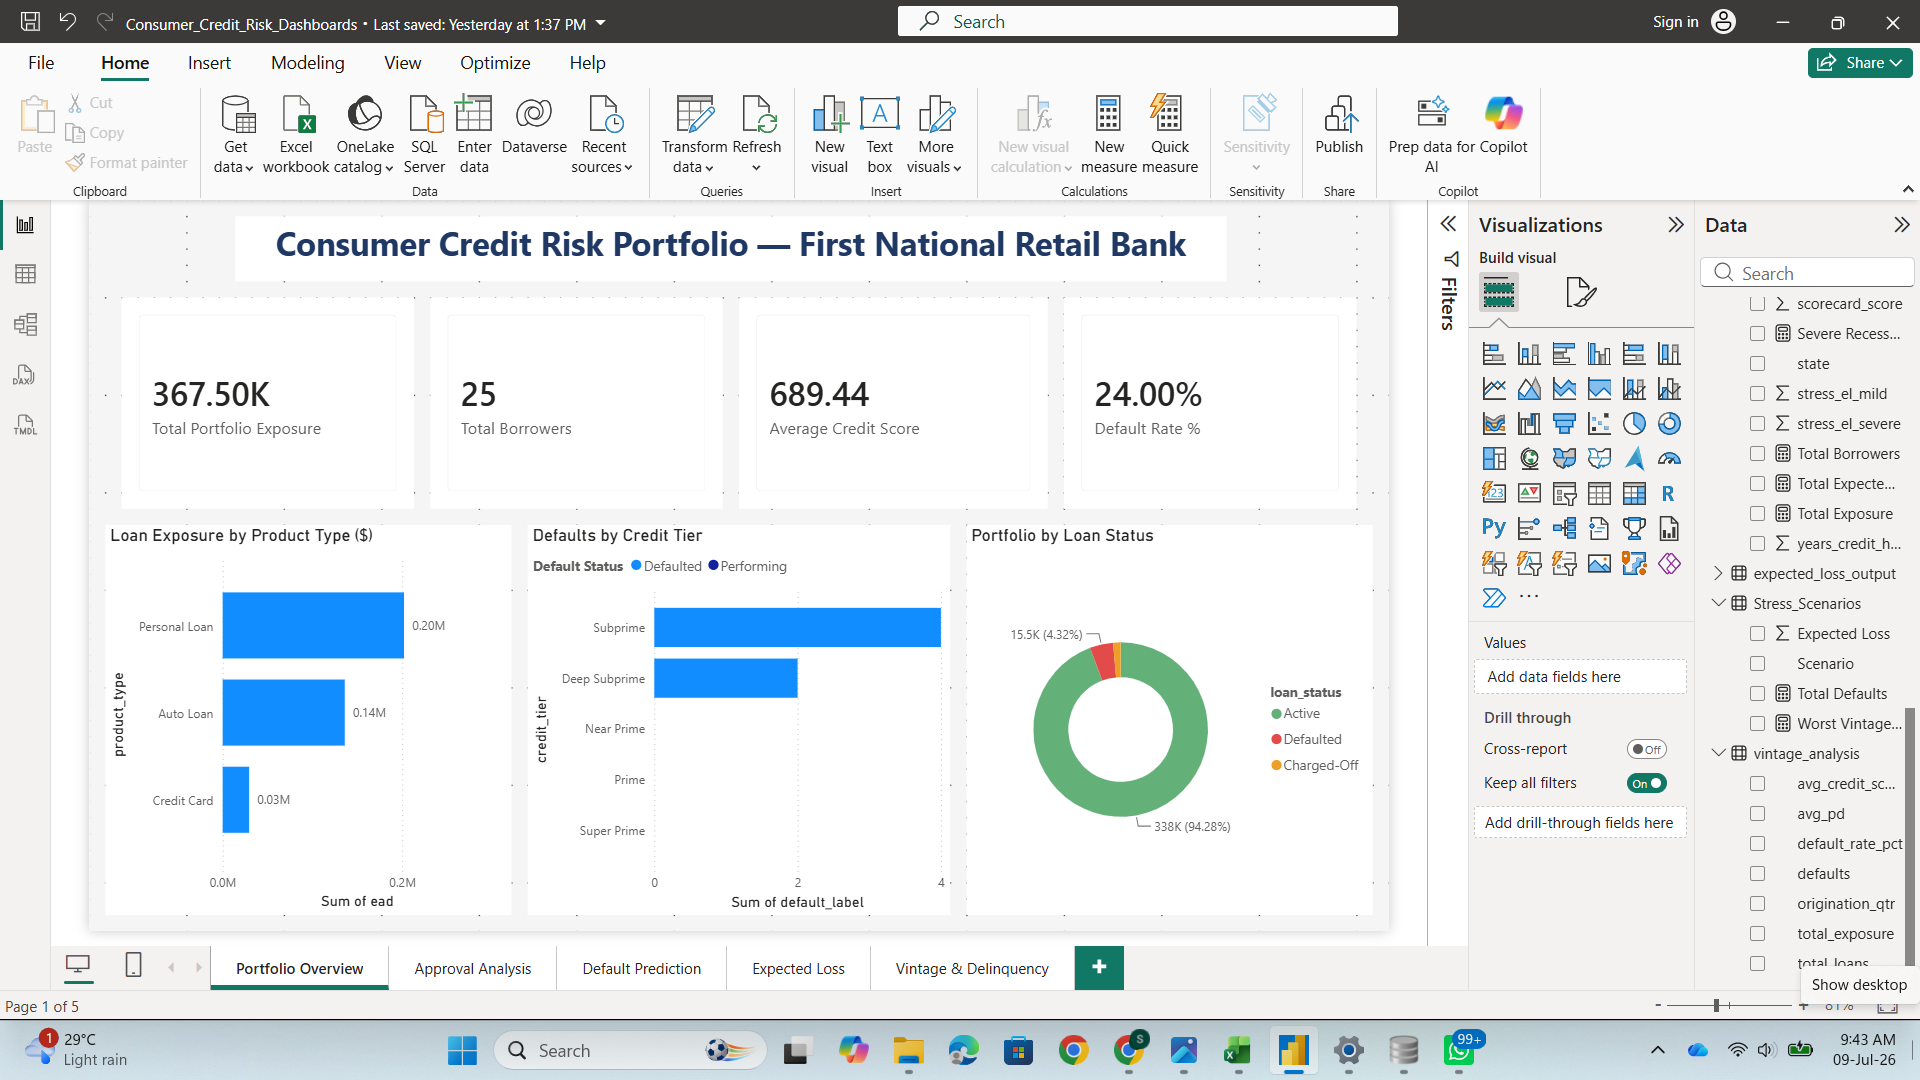

Layout of this report page (visuals, bound fields, positions):
{"tool":"powerbi","page":{"name":"Portfolio Overview","canvas":[1280,720],"ordinal":0},"visuals":[{"type":"textbox","box":[144,16,976,64],"z":0},{"type":"cardVisual","fields":{"Data":["borrowers_data.Total Exposure"]},"box":[32,96,288,208],"z":1000},{"type":"cardVisual","fields":{"Data":["borrowers_data.Total Borrowers"]},"box":[336,96,288,208],"z":2000},{"type":"cardVisual","fields":{"Data":["Avg(vintage_analysis.avg_credit_score)"]},"box":[640,96,304,208],"z":3000},{"type":"cardVisual","fields":{"Data":["borrowers_data.Default Rate %"]},"box":[960,96,288,208],"z":4000},{"type":"clusteredBarChart","title":"Loan Exposure by Product Type ($)","fields":{"Category":["borrowers_data.product_type"],"Y":["Sum(borrowers_data.ead)"]},"box":[16,320,400,384],"z":5000},{"type":"donutChart","title":"Portfolio by Loan Status","fields":{"Category":["borrowers_data.loan_status"],"Y":["Sum(borrowers_data.ead)"]},"box":[864,320,400,384],"z":6000},{"type":"barChart","title":"Defaults by Credit Tier","fields":{"Category":["borrowers_data.credit_tier"],"Series":["borrowers_data.Default Status"],"Y":["Sum(borrowers_data.default_label)"]},"box":[432,320,416,384],"z":7000}]}

Visuals, with their boxes on the page's 1280x720 design canvas (x1, y1, x2, y2). These are canvas units, not pixel positions in the 1920x1080 screenshot, which may show the page scaled, cropped or inside an application window:
textbox: <box>144,16,1120,80</box>
cardVisual - borrowers_data.Total Exposure: <box>32,96,320,304</box>
cardVisual - borrowers_data.Total Borrowers: <box>336,96,624,304</box>
cardVisual - Avg(vintage_analysis.avg_credit_score): <box>640,96,944,304</box>
cardVisual - borrowers_data.Default Rate %: <box>960,96,1248,304</box>
"Loan Exposure by Product Type ($)" clusteredBarChart: <box>16,320,416,704</box>
"Portfolio by Loan Status" donutChart: <box>864,320,1264,704</box>
"Defaults by Credit Tier" barChart: <box>432,320,848,704</box>
